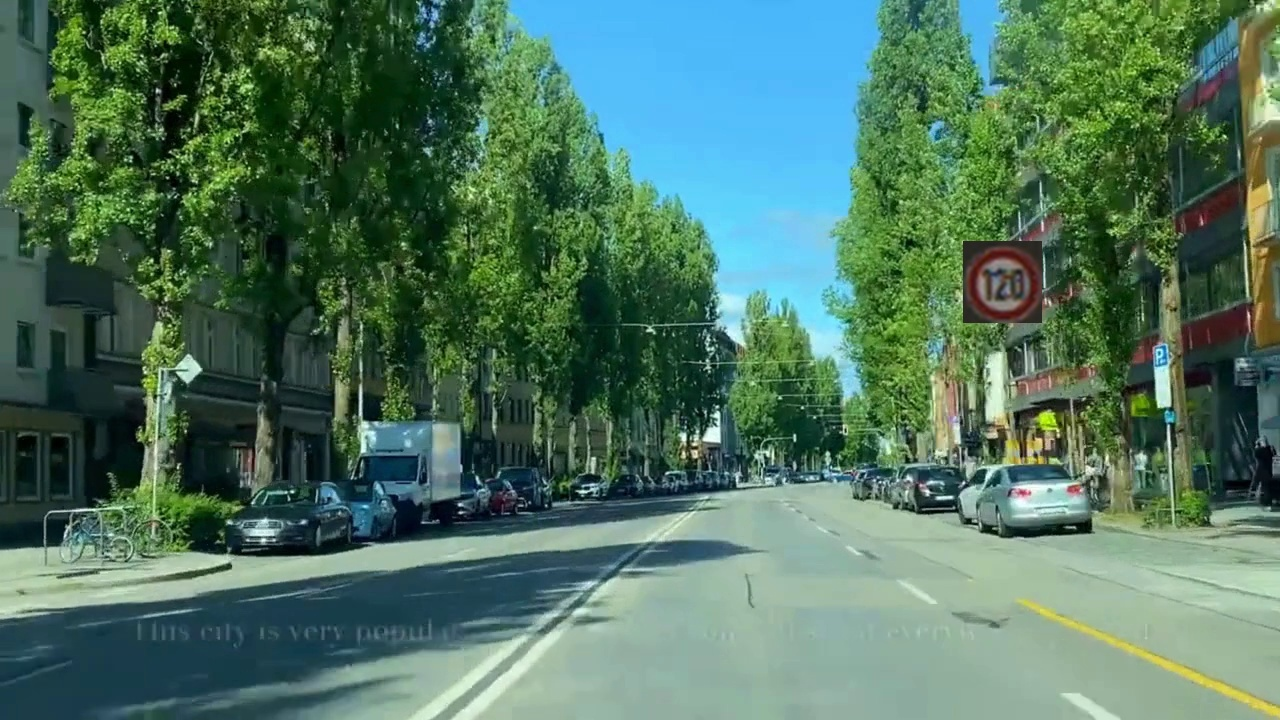Speed 120: (963, 241, 1042, 323)
